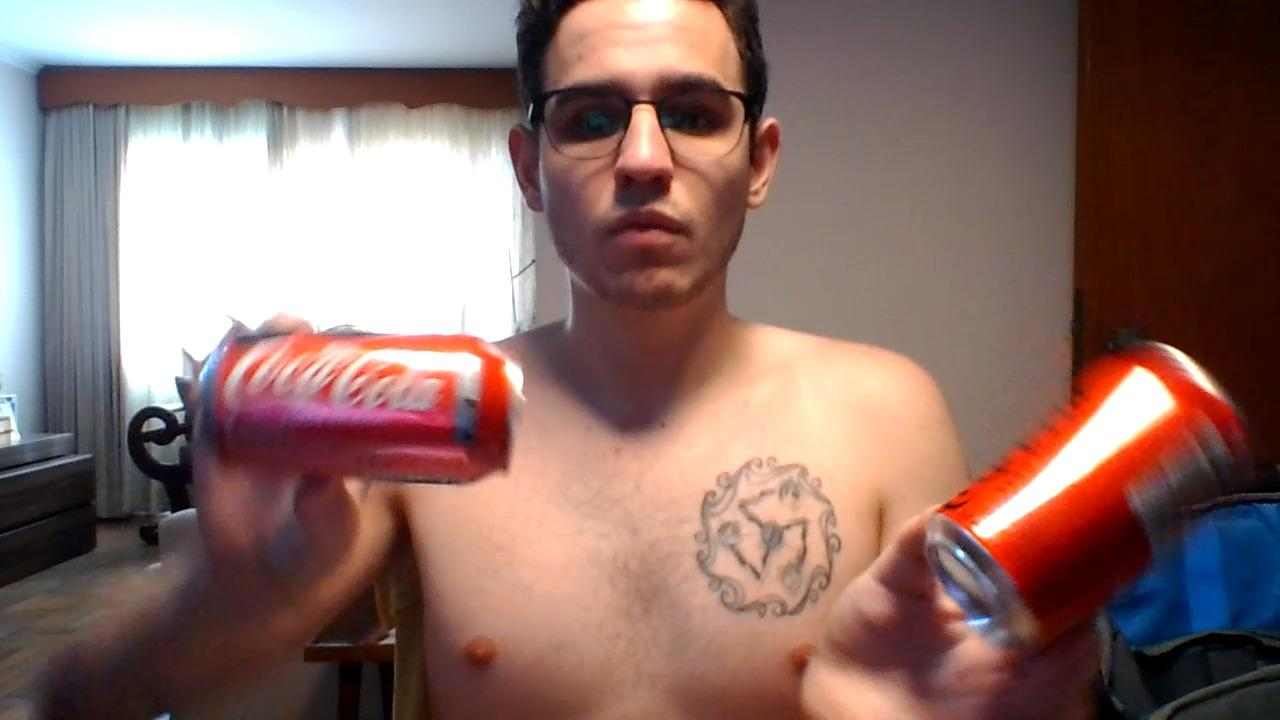coke: (917, 334, 1263, 656), (195, 326, 527, 485)
